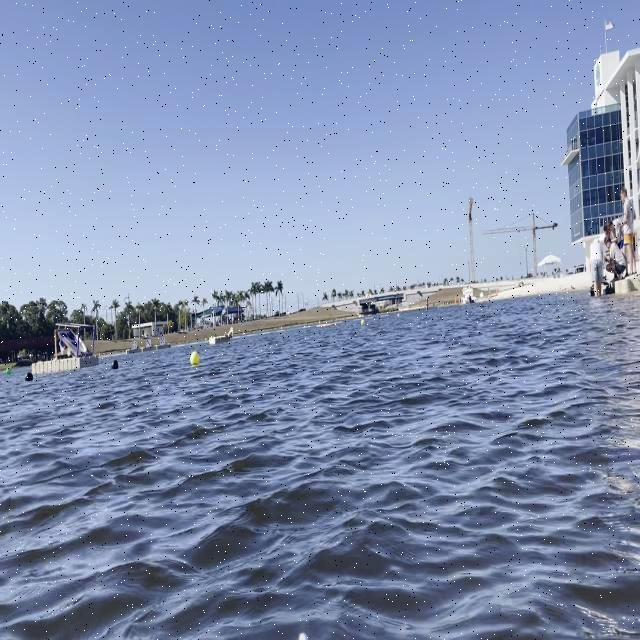buoy: (190, 350, 200, 366), (110, 359, 120, 371), (26, 372, 34, 382), (359, 318, 366, 327), (6, 367, 12, 376)
